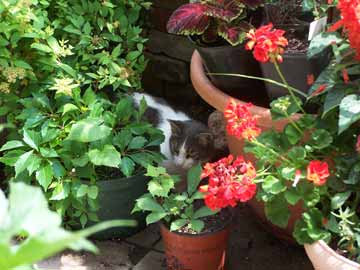cat: (126, 88, 211, 171)
